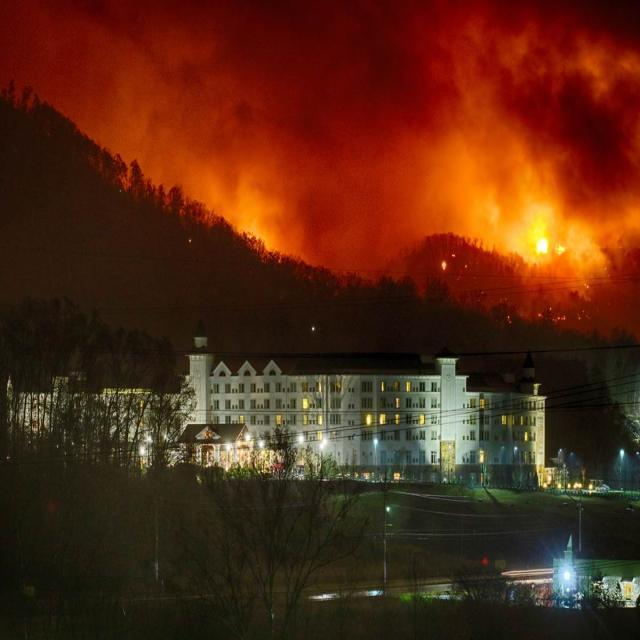Fire: (480, 208, 584, 284)
Smoke: (106, 10, 634, 264)
